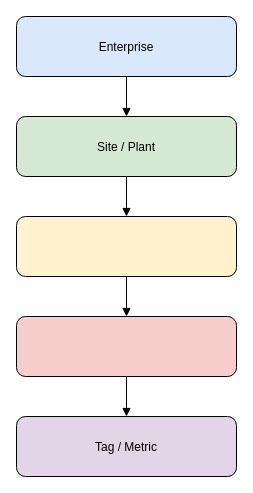
Some shapes in this 253 by 493 pixel diagram are drawn without their labels. Here are the shapes that lost their labels. From the top down, the box of each, then its label:
(16, 216, 236, 276): Area / Line
(16, 316, 236, 376): Edge Node / Device
